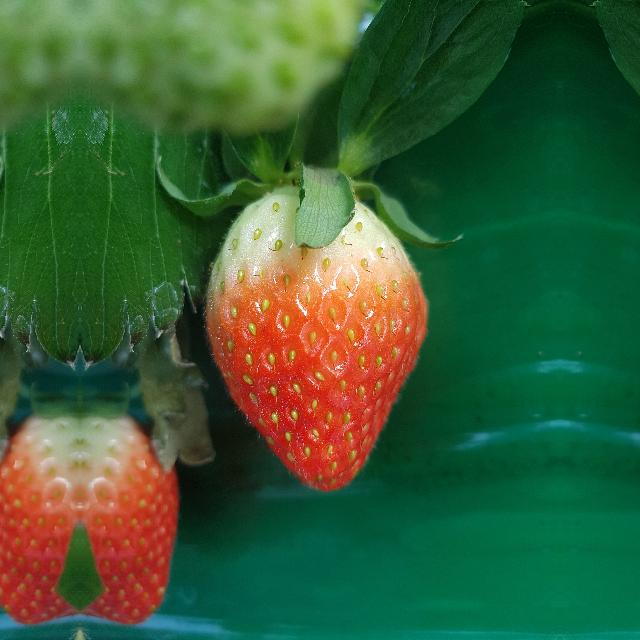Health_75: (204, 189, 428, 493), (80, 408, 184, 630), (0, 407, 80, 630)
